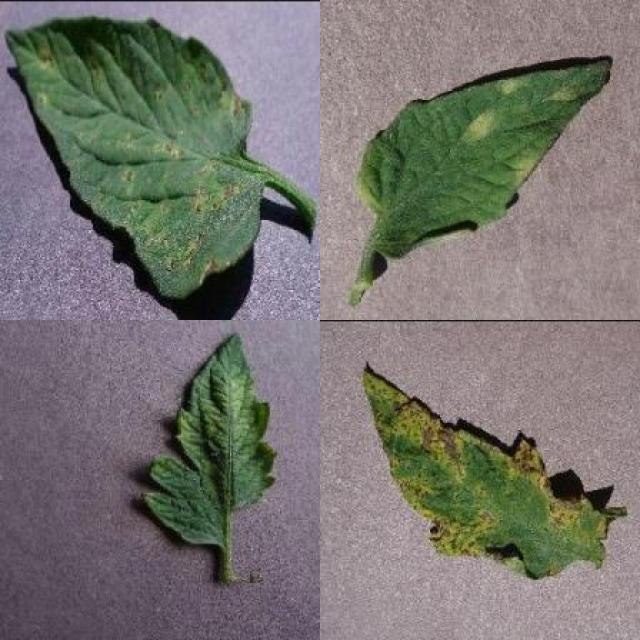Leaf Mold: (358, 60, 613, 263)
Mosaic Virus: (141, 330, 276, 547)
Septoria: (5, 15, 265, 294), (360, 365, 626, 576)
